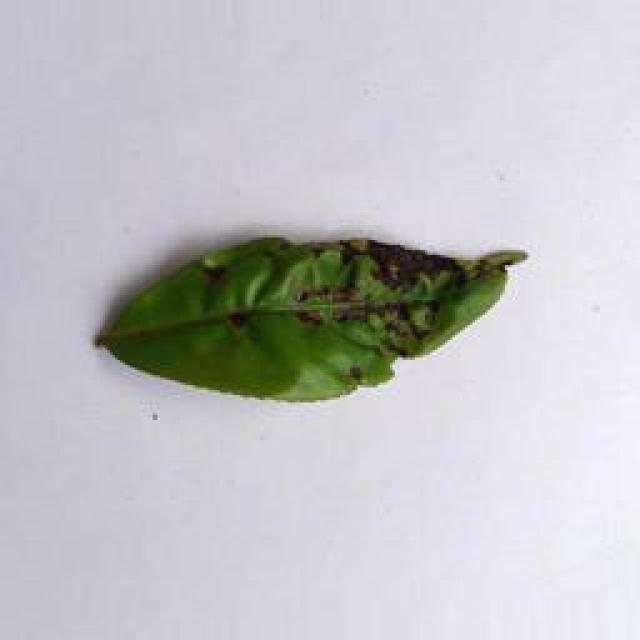Helopeltis: (86, 218, 536, 408)
